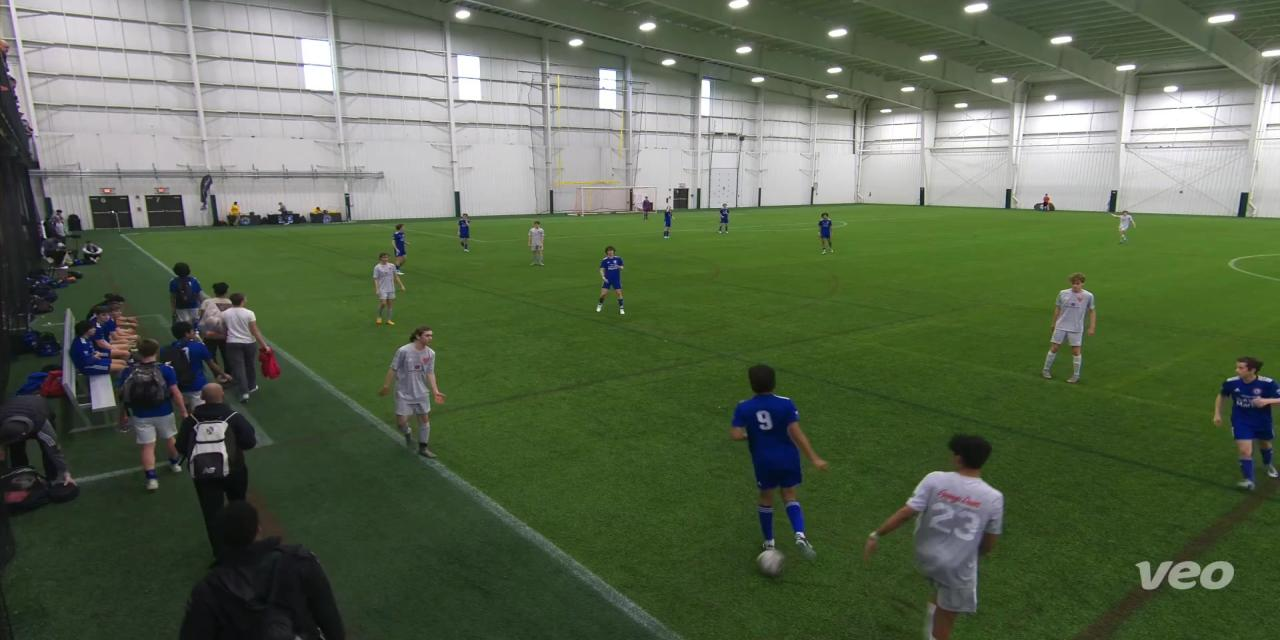goal: (571, 182, 664, 215)
sports ball: (755, 545, 791, 580)
